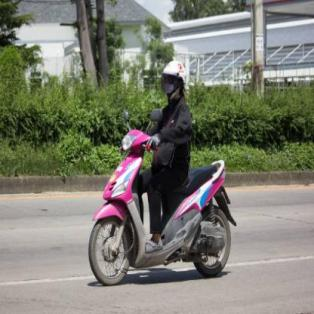Motocicleta: (82, 109, 236, 288)
